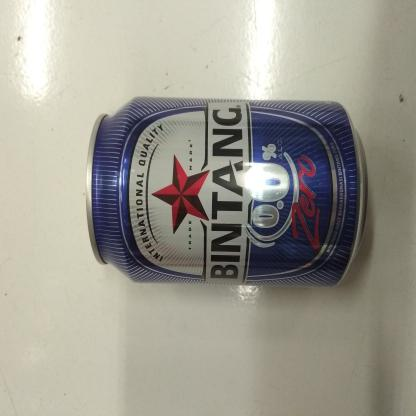mouse: (82, 91, 372, 289)
